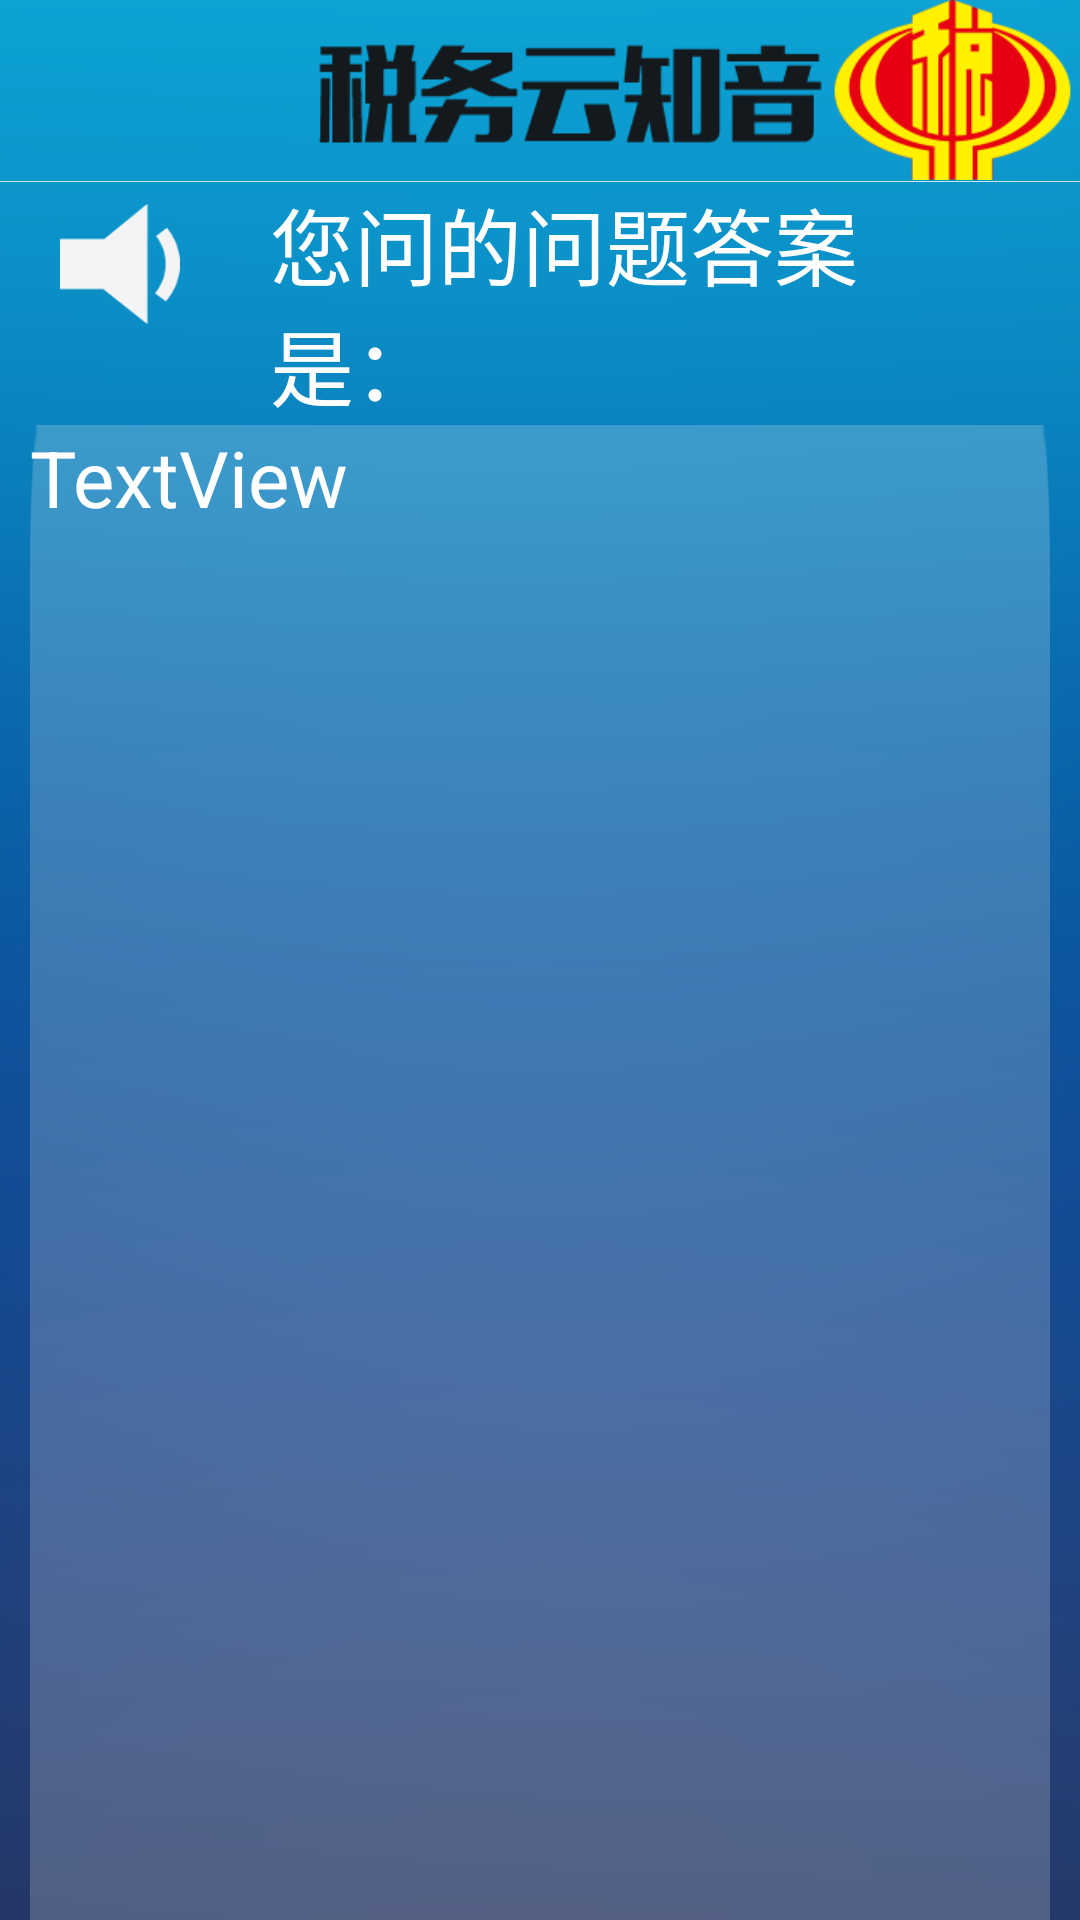

Named icons in this screenshot (1080px×1920px) and their bounding boxes, (x1, y1, x2, y2):
volumeon: (60, 204, 180, 324)
